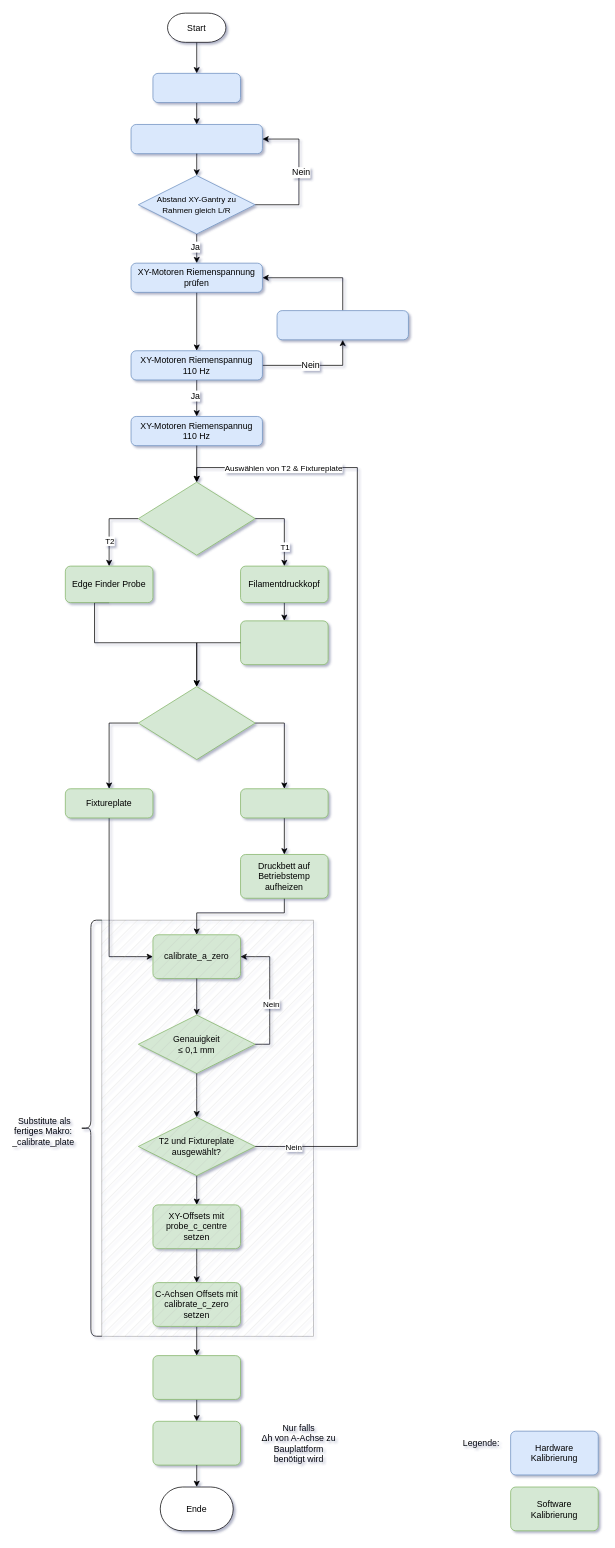
The diagram is 615 pixels wide and 1548 high, and some of its shapes have lost their labels. The centre of each missing label's shape, as x and y in pixels:
"Alle Achsen referenzieren G28" goes at (196,88).
"Bauplattform?" goes at (196,723).
"Druckbett" goes at (284,803).
"Düse auf Betriebstemp vorheizen" goes at (284,642).
"Optional: diff_pin_heatbed" goes at (196,1443).
"Optional: Validierung sweep_a" goes at (196,1377).
"Werkzeug?" goes at (196,518).
"XY-Motorriemen nachspannen" goes at (342,325).
"Z-Riemenspannung prüfen selbe Hz auf allen 4 Z-Riemen" goes at (196,139).
